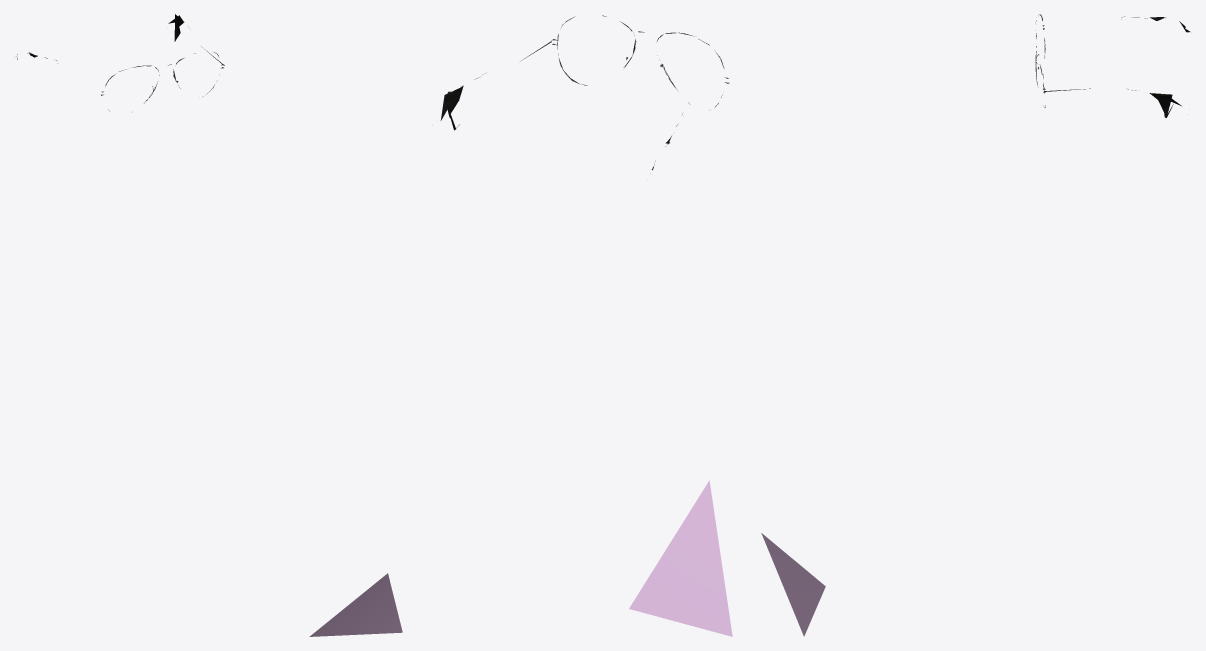
3 renders of one model, left to right at view 1: azimuth 30°, elevation 25°; view 2: azimuth 150°, elevation 25°; view 3: azimuth 270°, elevation 25°, orthographic. The views are drawn at different scales.
Parts seen in each view (by area): view 1: p02278; view 2: p02278; view 3: p02278.
Part boxes in pixels (x1,y1,x2,y2): p02278: [16, 14, 402, 636]; p02278: [440, 15, 732, 636]; p02278: [761, 14, 1190, 636].
Bounding box in the file's own units: 0.2249 × 0.5564 × 0.4024.
1 material, 1 textured.
